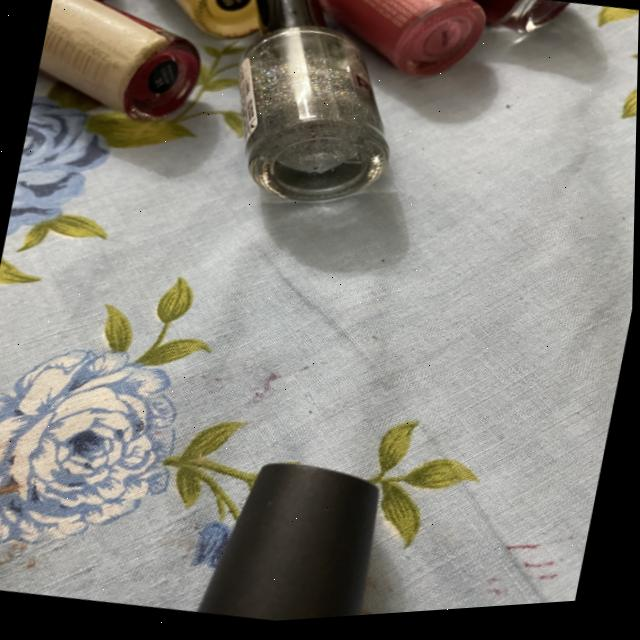nail polish: (199, 0, 428, 230), (204, 422, 412, 629), (28, 0, 236, 148)
